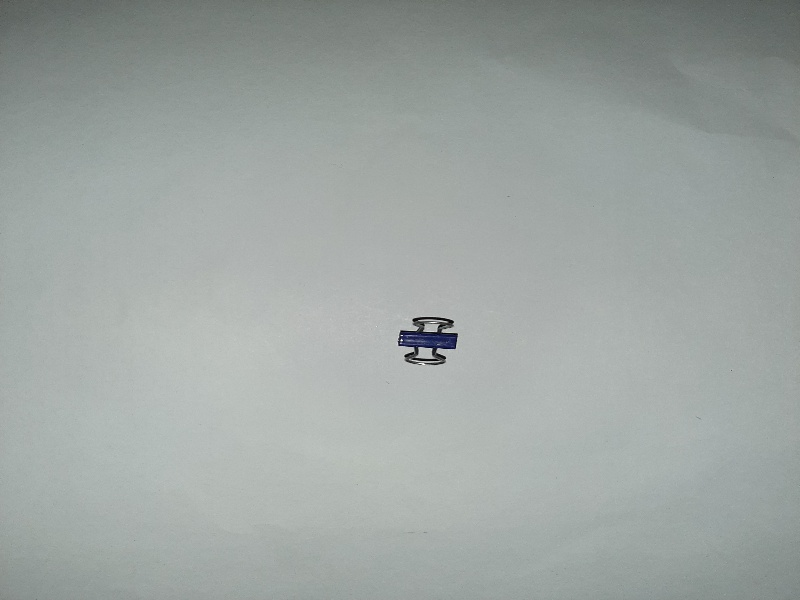Small Paperclip: (380, 305, 469, 372)
